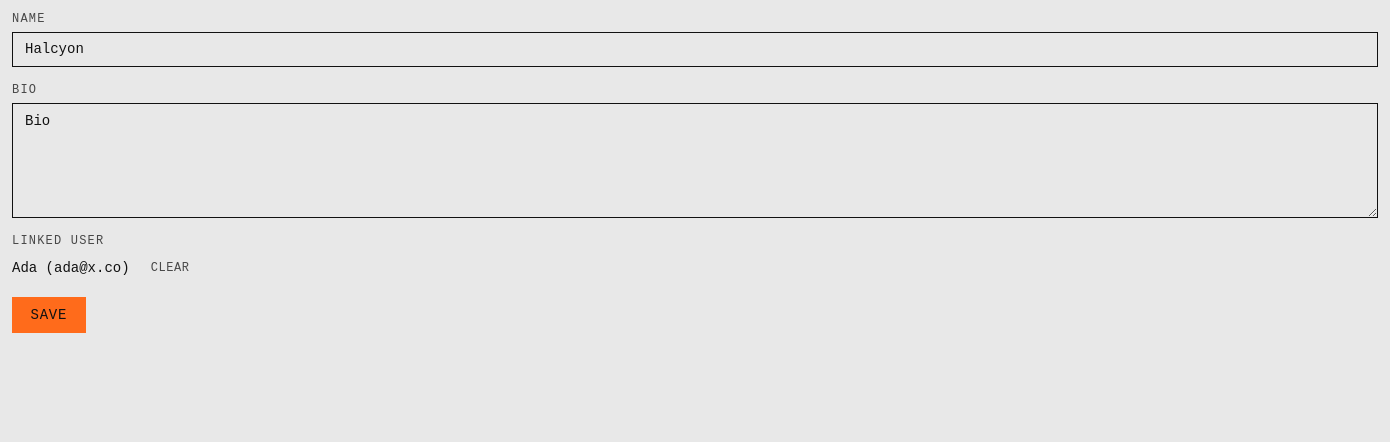
Scenario: ArtistForm › edits, unlinks, and shows Saved
The width and height of the screenshot is (1390, 442).
Step 1. Click the button with aria-label "Clear linked user" → click(170, 268), box [138,254,203,281]
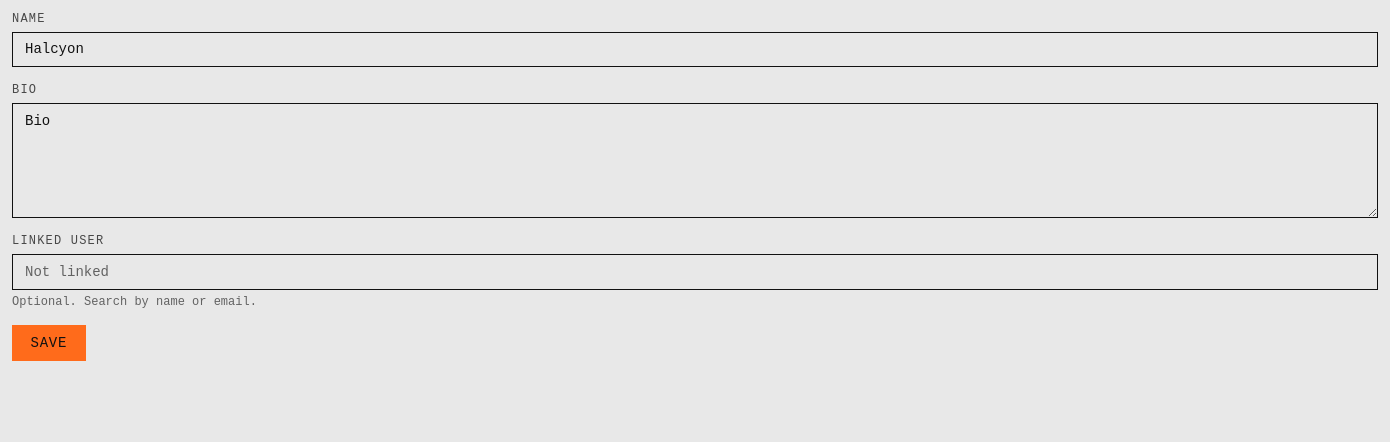
Step 2. Click the button "Save" → click(49, 343), box [12,325,86,361]
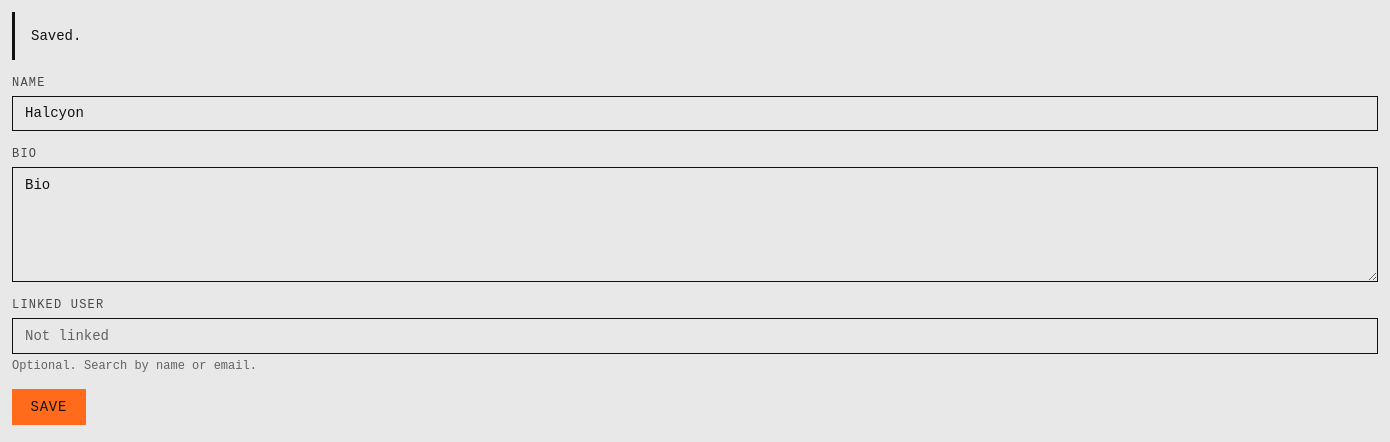
expect the message reads "Saved.": met, box [31,28,81,44]
